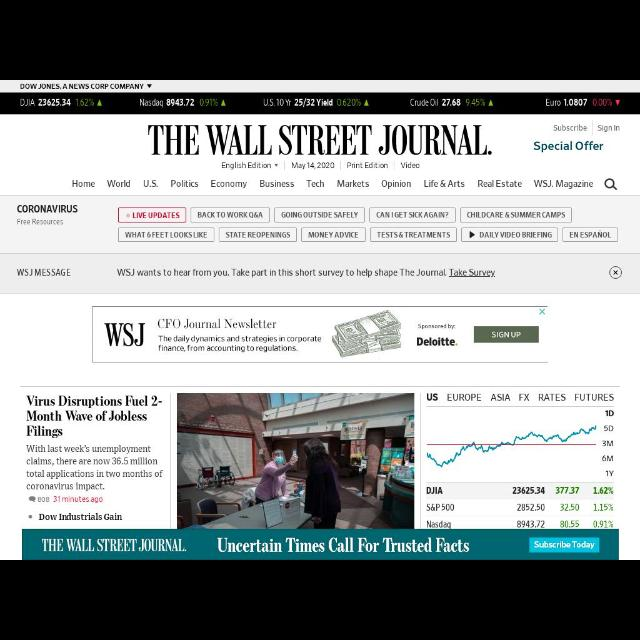button: (608, 266, 622, 278)
icon: (604, 178, 618, 192), (468, 230, 476, 238), (614, 270, 618, 276), (148, 83, 152, 87)
iframe: (92, 306, 546, 364)
image: (428, 406, 598, 476)
spinner: (21, 82, 153, 92)
text: (146, 122, 492, 158), (26, 443, 164, 492), (26, 394, 162, 438), (117, 266, 497, 280), (216, 537, 470, 555), (41, 536, 187, 554), (38, 512, 124, 522), (534, 141, 604, 153), (125, 230, 208, 240), (467, 211, 568, 219), (21, 84, 145, 90), (376, 210, 448, 220), (479, 230, 551, 240), (262, 98, 332, 108), (197, 210, 263, 220), (16, 203, 78, 213), (282, 210, 358, 218), (534, 540, 594, 550), (377, 231, 451, 239), (411, 98, 462, 109), (140, 97, 196, 107), (16, 267, 72, 277), (218, 161, 272, 171), (52, 495, 104, 505), (226, 231, 290, 239), (20, 98, 70, 108), (534, 180, 594, 188), (543, 97, 589, 107), (260, 178, 296, 190), (424, 179, 466, 189), (574, 392, 616, 402), (347, 161, 388, 171), (307, 230, 358, 238), (16, 219, 64, 227), (290, 161, 336, 169), (335, 179, 371, 189), (446, 392, 482, 402), (568, 230, 612, 238), (212, 179, 246, 189), (512, 487, 546, 497), (171, 179, 199, 191), (476, 180, 524, 187), (198, 96, 220, 110), (426, 502, 456, 512), (516, 503, 546, 513), (516, 521, 546, 531), (132, 212, 180, 218), (424, 520, 452, 530), (108, 178, 130, 190), (552, 125, 588, 132), (72, 179, 96, 189), (556, 486, 580, 496), (560, 502, 580, 514), (590, 502, 614, 512), (382, 179, 411, 187), (336, 97, 359, 107), (592, 486, 614, 496), (142, 178, 160, 190), (306, 179, 326, 189), (598, 125, 620, 134), (538, 394, 566, 401), (75, 98, 93, 108), (466, 97, 484, 107), (560, 518, 578, 528), (592, 520, 614, 528), (592, 97, 612, 105), (490, 394, 510, 402), (426, 486, 442, 494), (400, 162, 420, 168), (518, 392, 530, 402), (603, 439, 615, 449), (604, 469, 616, 478), (37, 496, 49, 504), (426, 393, 438, 401), (604, 424, 614, 432), (602, 455, 614, 461), (606, 409, 612, 416)
textbutton: (529, 538, 599, 552)
